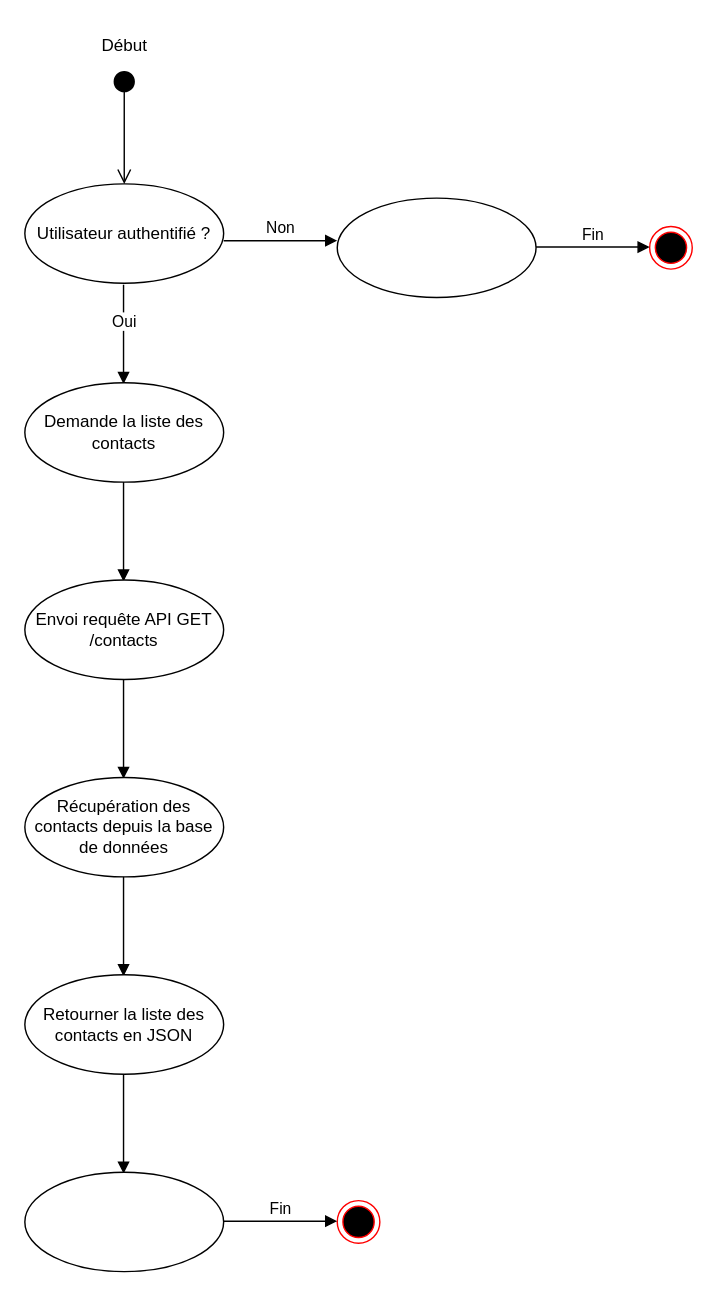
The diagram is 717 pixels wide and 1296 high, and some of its shapes have lost their labels. The box of each missing label's shape, as (x1, y1, x2, y2) in pixels:
Afficher la liste des contacts à l'utilisateur: (23, 1171, 224, 1272)
Redirection vers la page de connexion: (336, 197, 536, 297)
